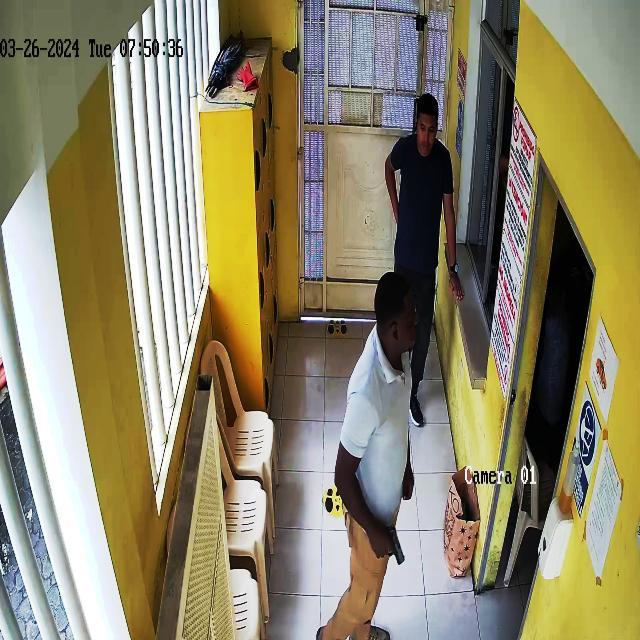Gun: (354, 514, 420, 574)
